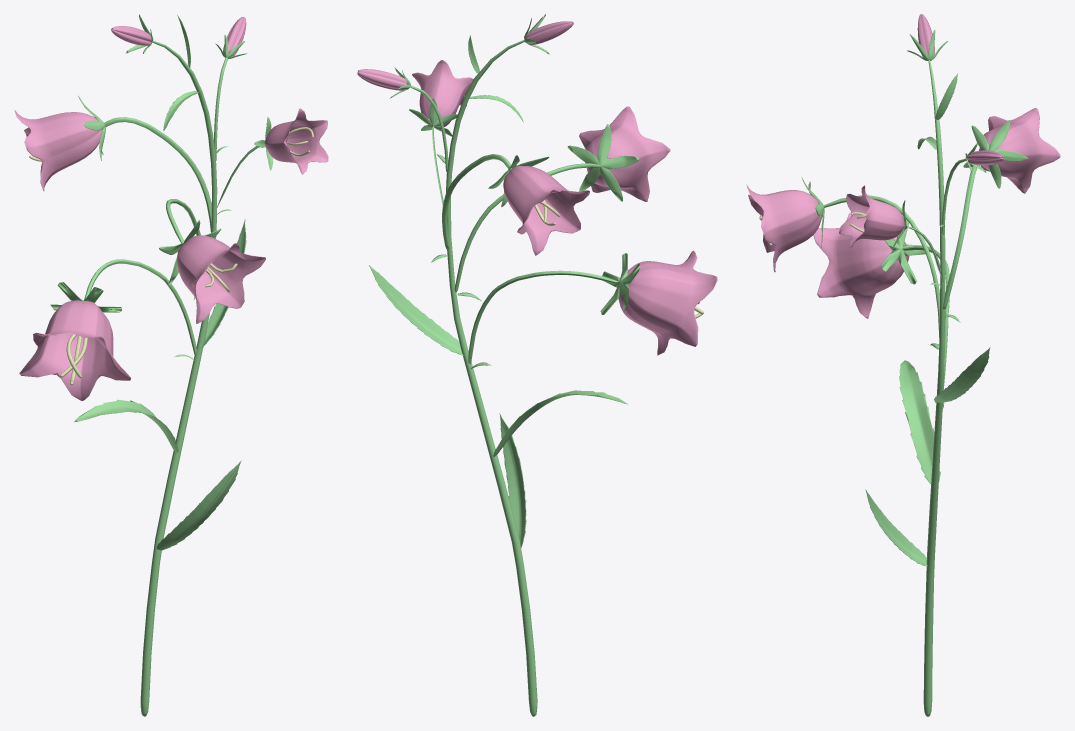
The model's file is hua.fbx.
The picture shows the model from 3 angles, left to right: view 1: azimuth 30°, elevation 25°; view 2: azimuth 150°, elevation 25°; view 3: azimuth 270°, elevation 25°; orthographic projection. The views are drawn at different scales.
Visible parts, largest first — view 1: polySurface2; view 2: polySurface2; view 3: polySurface2.
Boxes of the visible parts, x1,y1,x2,y2 form: polySurface2: (14, 14, 328, 716); polySurface2: (357, 14, 717, 716); polySurface2: (746, 14, 1060, 716).
Size of the model in its own units: 152 by 339 by 140.
